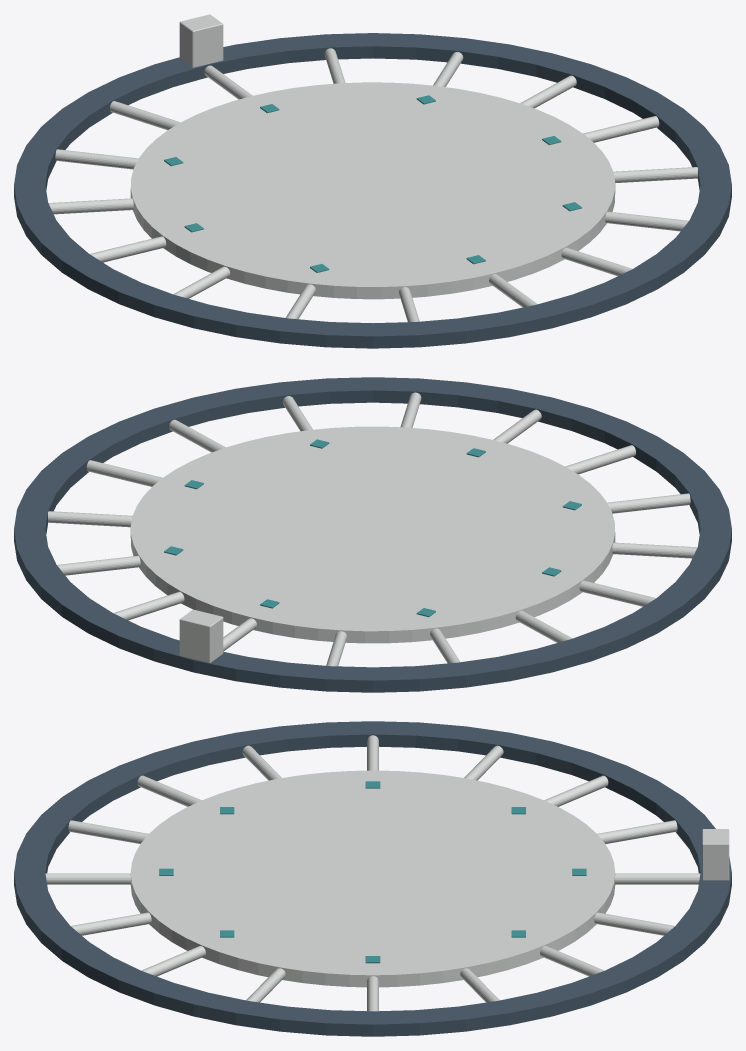
3 renders of one model, top to bottom at view 1: azimuth 30°, elevation 25°; view 2: azimuth 150°, elevation 25°; view 3: azimuth 270°, elevation 25°, orthographic.
Parts seen in each view (by area): view 1: ME-070 Vented peripheral lunar landing pad batched; view 2: ME-070 Vented peripheral lunar landing pad batched; view 3: ME-070 Vented peripheral lunar landing pad batched.
Part boxes in pixels (box(x1,y1,x2,y2)): ME-070 Vented peripheral lunar landing pad batched: box(14, 14, 731, 348); ME-070 Vented peripheral lunar landing pad batched: box(14, 377, 731, 692); ME-070 Vented peripheral lunar landing pad batched: box(14, 721, 731, 1036).
Bounding box in the file's own units: 8 × 0.6 × 8.
